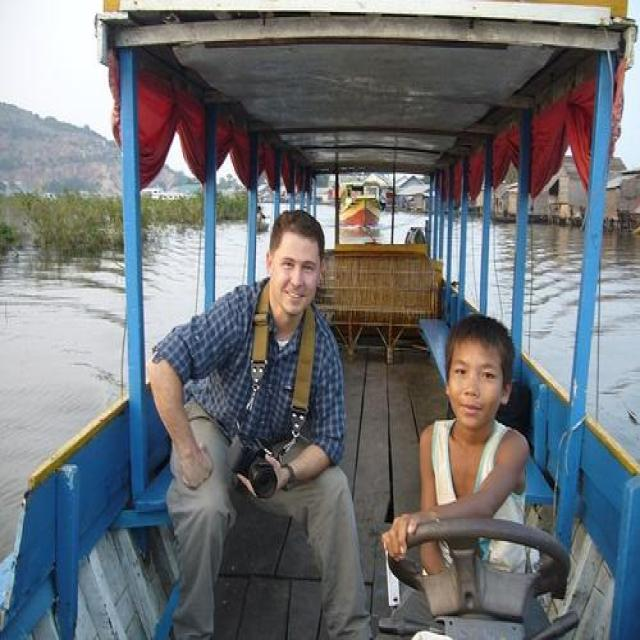No_Gloves: (386, 501, 439, 560), (236, 456, 296, 508), (168, 434, 215, 495)
